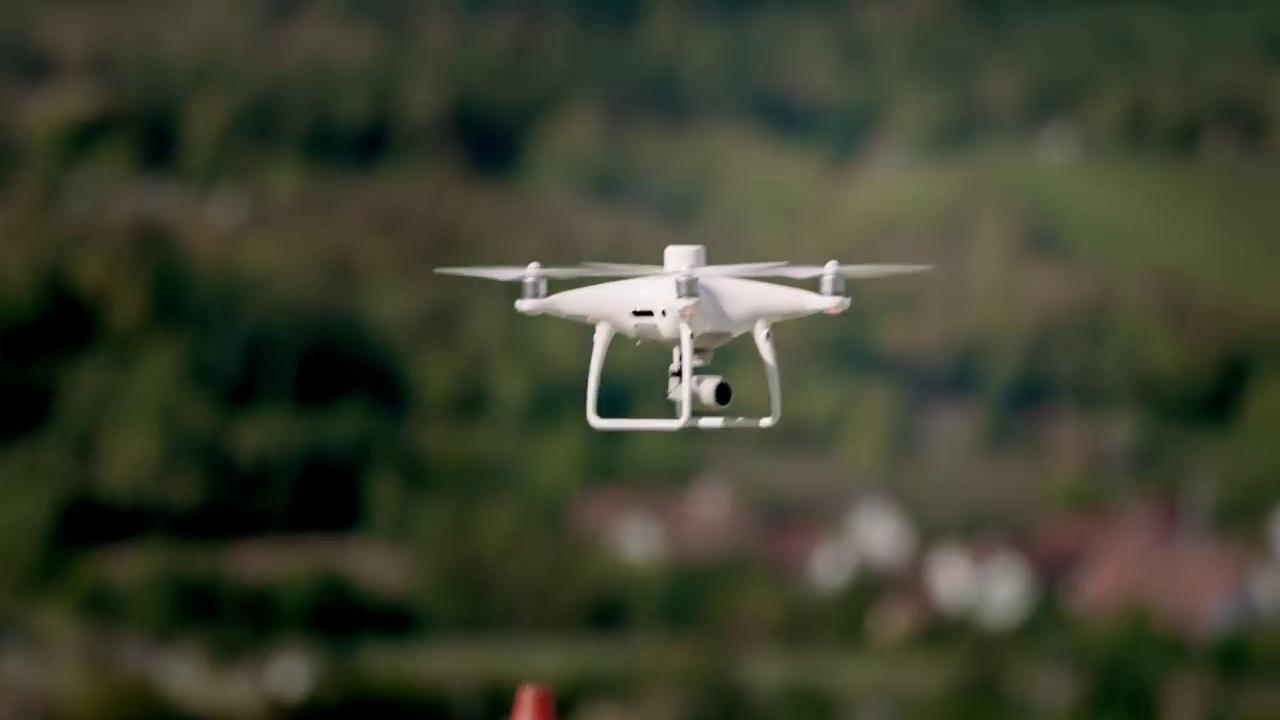drone: (429, 239, 937, 437)
